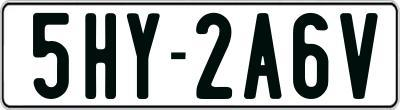2: (194, 12, 236, 98)
5: (30, 10, 69, 101)
6: (292, 12, 329, 98)
A: (243, 12, 284, 99)
H: (85, 10, 116, 96)
V: (340, 12, 379, 104)
Y: (125, 10, 164, 100)
